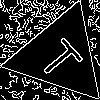T: (34, 31, 92, 84)
